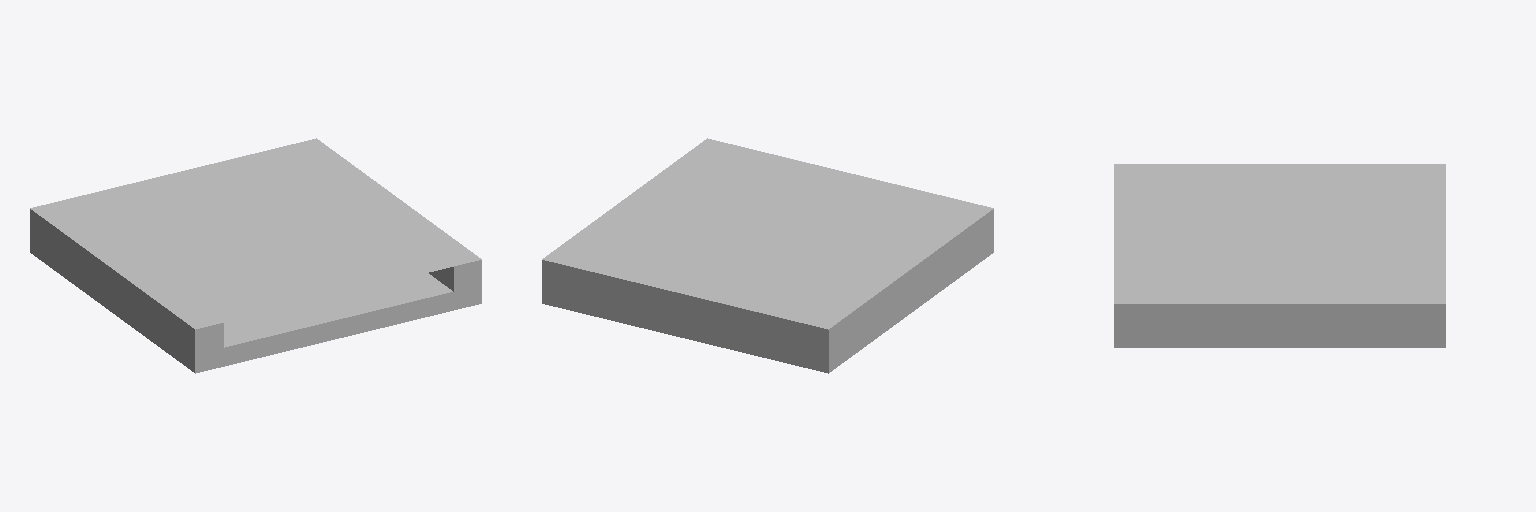
Rendered from End_01.obj.
3 views of the same model, side by side, from view 1: azimuth 30°, elevation 25°; view 2: azimuth 150°, elevation 25°; view 3: azimuth 270°, elevation 25° (orthographic).
Visible parts, largest first — view 1: Mesh1 End Model; view 2: Mesh1 End Model; view 3: Mesh1 End Model.
Boxes of the visible parts, <box> form: Mesh1 End Model: <box>30,138,481,373</box>; Mesh1 End Model: <box>542,138,993,373</box>; Mesh1 End Model: <box>1114,164,1445,347</box>.
Size of the model in its own units: 3 by 0.44 by 3.